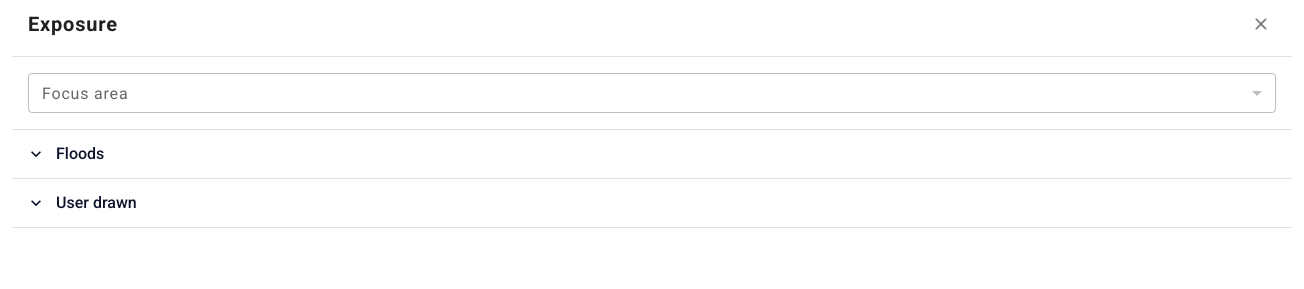
ExposureView › Spatial Relation Badges › displays "Partially in area" badge for overlapping layers
Expected: the text "Floods" is shown, left=56, top=144, right=104, bottom=163
Click the button "Floods".
click(80, 154)  # box left=12, top=130, right=1292, bottom=178
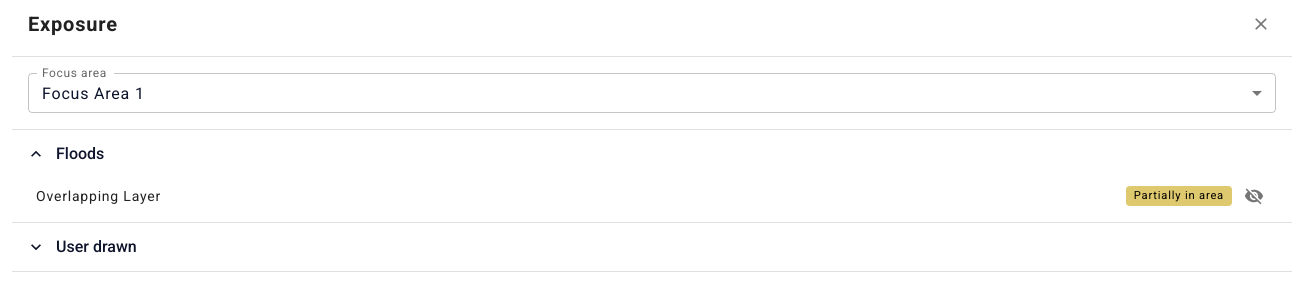
Result: the text "Overlapping Layer" is shown at left=36, top=188, right=161, bottom=204
Result: the text "Partially in area" is shown at left=1126, top=186, right=1232, bottom=206
